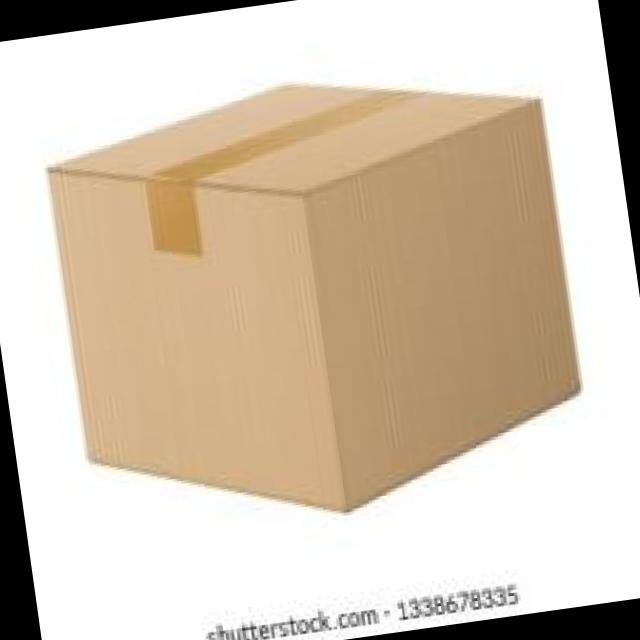box: (43, 84, 584, 517)
